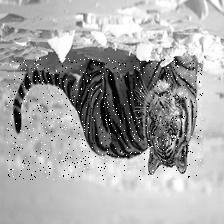tiger: (6, 57, 202, 179)
